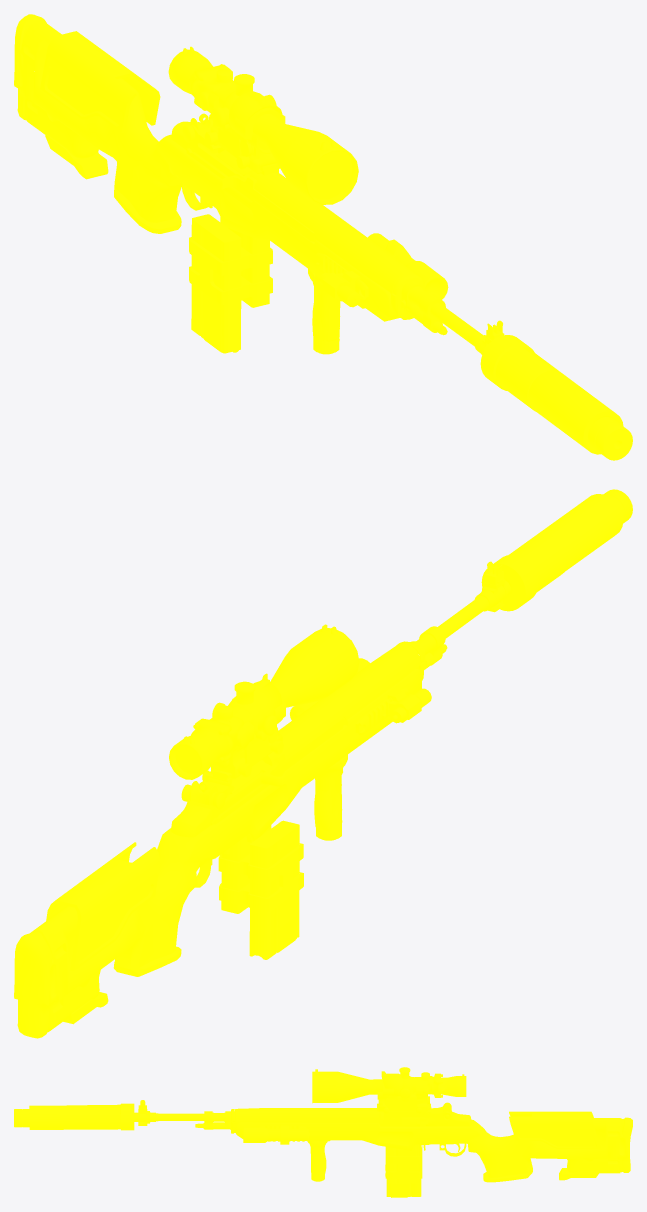
3 renders of one model, top to bottom at view 1: azimuth 30°, elevation 25°; view 2: azimuth 150°, elevation 25°; view 3: azimuth 270°, elevation 25°, orthographic. The views are drawn at different scales.
Visible parts, largest first — view 1: body, scope, stock_covers, double_magazine, wood, silencer01, acog, silencer03, handle, receiver, silencer02, stock_back_layer (+9 smaller); view 2: body, scope, double_magazine, stock_covers, wood, stock_back_layer, silencer01, silencer03, acog, receiver, handle, barrel (+4 smaller); view 3: body, stock_covers, scope, silencer01, wood, double_magazine, acog, handle, flash_light, receiver, stock_back_layer, barrel (+11 smaller).
Part boxes in pixels (left/top/right/bottom): body: left=33, top=29, right=399, bottom=321; scope: left=168, top=46, right=358, bottom=204; stock_covers: left=40, top=31, right=160, bottom=179; double_magazine: left=189, top=214, right=272, bottom=353; wood: left=254, top=172, right=416, bottom=293; silencer01: left=522, top=346, right=623, bottom=454; acog: left=189, top=64, right=282, bottom=173; silencer03: left=480, top=335, right=552, bottom=411; handle: left=117, top=152, right=181, bottom=216; receiver: left=171, top=121, right=262, bottom=200; silencer02: left=588, top=417, right=632, bottom=460; stock_back_layer: left=14, top=14, right=48, bottom=123; body: left=43, top=668, right=421, bottom=1021; scope: left=169, top=624, right=359, bottom=779; double_magazine: left=218, top=795, right=303, bottom=959; stock_covers: left=46, top=842, right=160, bottom=1024; wood: left=278, top=644, right=420, bottom=759; stock_back_layer: left=14, top=927, right=58, bottom=1038; silencer01: left=509, top=494, right=623, bottom=571; silencer03: left=481, top=533, right=568, bottom=611; acog: left=191, top=673, right=282, bottom=776; receiver: left=171, top=752, right=283, bottom=837; handle: left=141, top=864, right=198, bottom=959; barrel: left=416, top=565, right=505, bottom=654; body: left=235, top=1118, right=607, bottom=1182; stock_covers: left=509, top=1111, right=601, bottom=1180; scope: left=312, top=1067, right=466, bottom=1111; silencer01: left=29, top=1105, right=120, bottom=1129; wood: left=235, top=1108, right=379, bottom=1122; double_magazine: left=385, top=1144, right=422, bottom=1197; acog: left=378, top=1071, right=448, bottom=1113; handle: left=467, top=1139, right=525, bottom=1174; flash_light: left=243, top=1124, right=309, bottom=1144; receiver: left=379, top=1106, right=471, bottom=1126; stock_back_layer: left=617, top=1117, right=632, bottom=1173; barrel: left=140, top=1103, right=225, bottom=1122.
Bounding box in the file's own units: 20.93 × 55.38 × 231.
14 materials, 14 textured.
